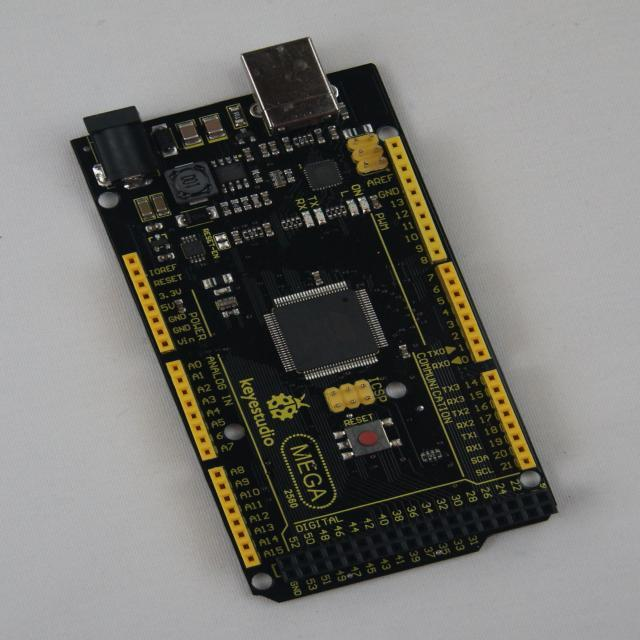Arduino Mega 2560 -Yellow-: (73, 39, 557, 602)
